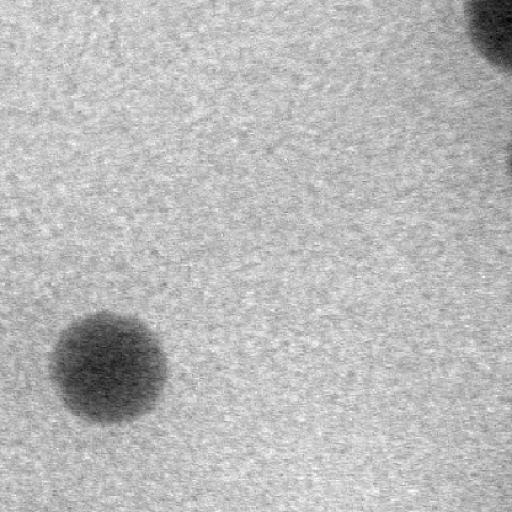Nanoparticles: (45, 306, 171, 426), (468, 0, 512, 75)
